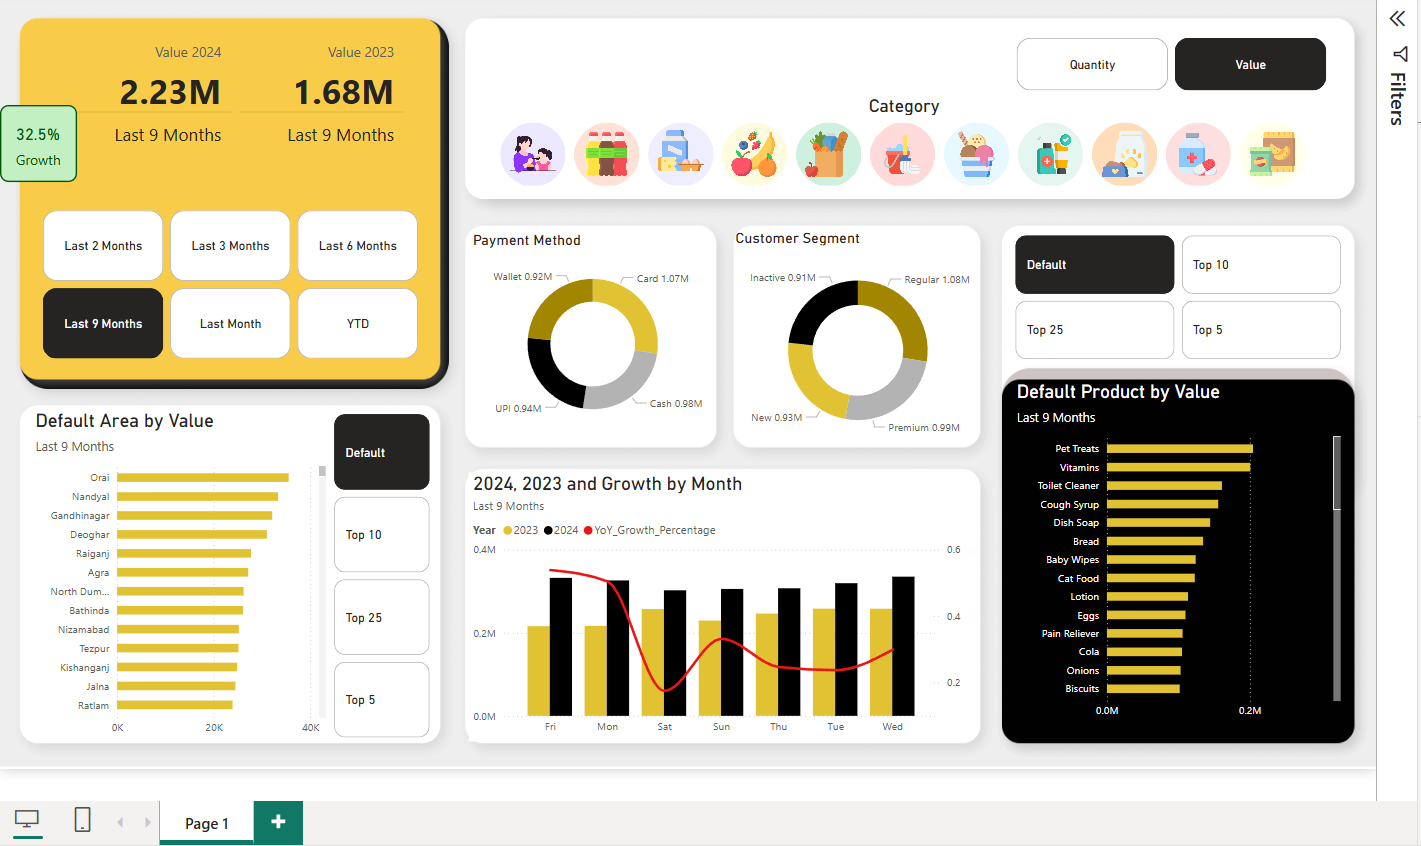

What the dashboard file says about the page in this screenshot:
{"tool":"powerbi","page":{"name":"Page 1","canvas":[1600,900],"ordinal":0},"visuals":[{"type":"advancedSlicerVisual","fields":{"Values":["MasterTable.Value_Type"]},"box":[1177.2,44.7,370,71.2],"z":0},{"type":"cardVisual","fields":{"Data":["Sales_Measures.Current_Year_Val","Sales_Measures.Prev_Year_Val"]},"box":[71.2,50.8,404.6,156.6],"z":1000},{"type":"advancedSlicerVisual","title":"Date Range","fields":{"Values":["Time Period.Options"]},"box":[44.7,246,447.3,183],"z":2000},{"type":"advancedSlicerVisual","title":"Category","fields":{"Values":["CategoryIcons.category"]},"box":[555.1,115.9,992.2,111.8],"z":3000},{"type":"card","fields":{"Values":["Sales_Measures.YoY_Growth_Percentage"]},"box":[0,128.1,89.5,89.5],"z":4000},{"type":"donutChart","title":"Payment Method","fields":{"Category":["MasterTable.payment_method"],"Y":["Sales_Measures.Selected_YTD"]},"box":[544.9,274.5,288.7,241.9],"z":5000},{"type":"donutChart","title":"Customer Segment","fields":{"Y":["Sales_Measures.Selected_YTD"],"Category":["MasterTable.customer_segment"]},"box":[849.9,272.4,294.8,262.3],"z":6000},{"type":"lineClusteredColumnComboChart","title":"2024, 2023 and Growth by Month","fields":{"Series":["Calendar.Year"],"Category":["Calendar.Day","Calendar.Month","Calendar.MonthYear","Calendar.Quarter"],"Y":["Sales_Measures.Selected_YTD"],"Y2":["Sales_Measures.YoY_Growth_Percentage"]},"box":[544.9,555.1,577.4,313.1],"z":7000},{"type":"clusteredBarChart","fields":{"Y":["Sales_Measures.TopN_Area_By_Value"],"Category":["MasterTable.area"]},"box":[36.6,481.9,347.7,386.3],"z":9000},{"type":"clusteredBarChart","fields":{"Y":["Sales_Measures.TopN_Product_By_Value"],"Category":["MasterTable.product_name"]},"box":[1177.2,449.3,386.3,400.5],"z":10000},{"type":"advancedSlicerVisual","fields":{"Values":["Rank_Table.Option"]},"box":[384.3,481.9,122,386.3],"z":11000},{"type":"advancedSlicerVisual","fields":{"Values":["Rank_Table.Option"]},"box":[1175.2,274.5,388.3,154.5],"z":12000}]}

Visuals, with their boxes on the page's 1600x900 design canvas (x1, y1, x2, y2). These are canvas units, not pixel positions in the 1421x846 screenshot, which may show the page scaled, cropped or inside an application window:
advancedSlicerVisual - MasterTable.Value_Type: pyautogui.locateOnScreen(1177, 45, 1547, 116)
cardVisual - Sales_Measures.Current_Year_Val x Sales_Measures.Prev_Year_Val: pyautogui.locateOnScreen(71, 51, 476, 207)
"Date Range" advancedSlicerVisual: pyautogui.locateOnScreen(45, 246, 492, 429)
"Category" advancedSlicerVisual: pyautogui.locateOnScreen(555, 116, 1547, 228)
card - Sales_Measures.YoY_Growth_Percentage: pyautogui.locateOnScreen(0, 128, 90, 218)
"Payment Method" donutChart: pyautogui.locateOnScreen(545, 274, 834, 516)
"Customer Segment" donutChart: pyautogui.locateOnScreen(850, 272, 1145, 535)
"2024, 2023 and Growth by Month" lineClusteredColumnComboChart: pyautogui.locateOnScreen(545, 555, 1122, 868)
clusteredBarChart - Sales_Measures.TopN_Area_By_Value x MasterTable.area: pyautogui.locateOnScreen(37, 482, 384, 868)
clusteredBarChart - Sales_Measures.TopN_Product_By_Value x MasterTable.product_name: pyautogui.locateOnScreen(1177, 449, 1564, 850)
advancedSlicerVisual - Rank_Table.Option: pyautogui.locateOnScreen(384, 482, 506, 868)
advancedSlicerVisual - Rank_Table.Option: pyautogui.locateOnScreen(1175, 274, 1564, 429)
